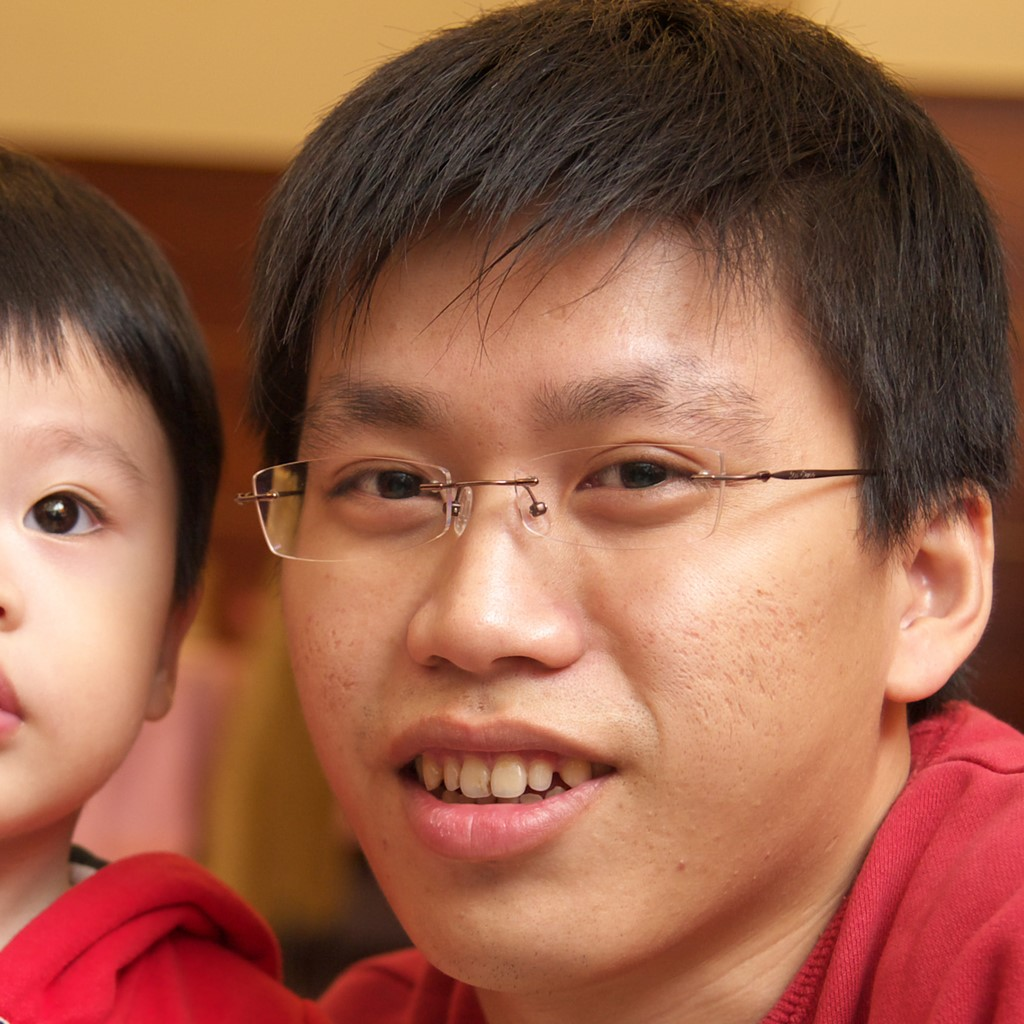sin_mascara: (282, 73, 942, 995)
